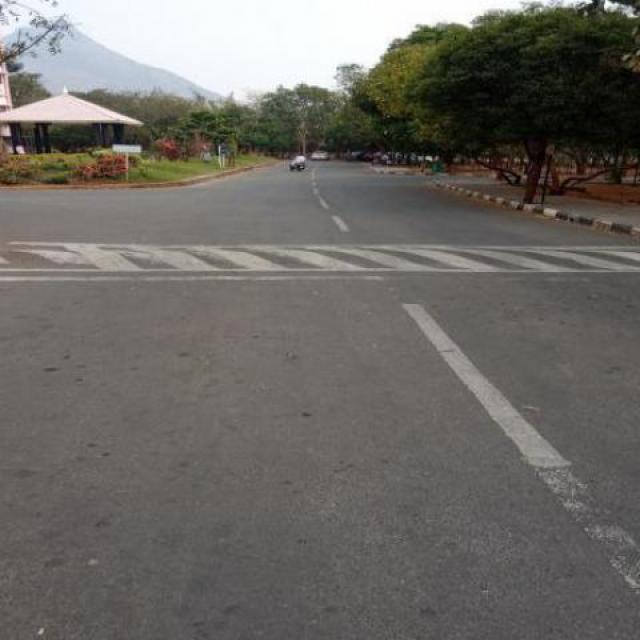Speed Bump: (0, 243, 639, 284)
